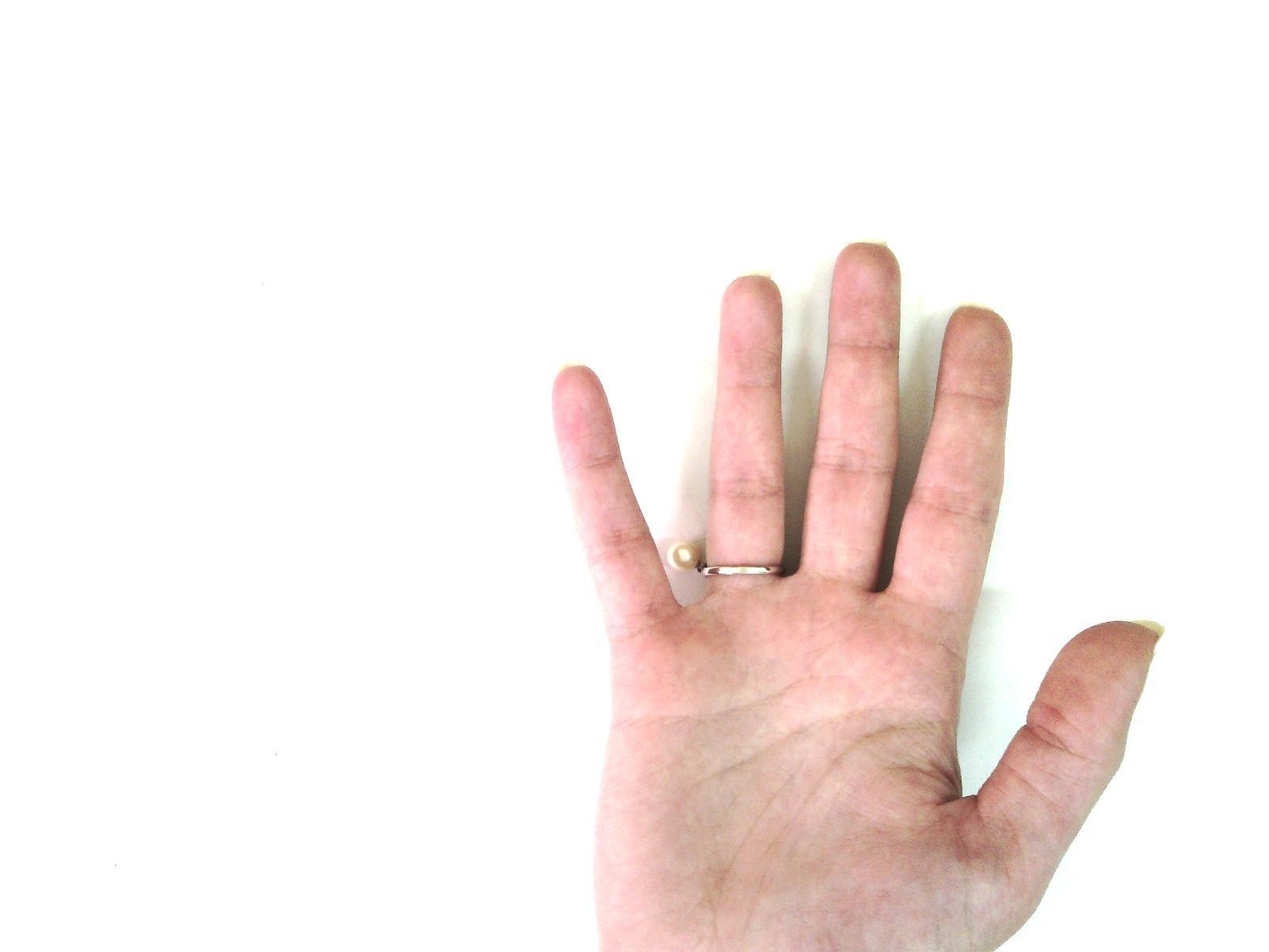open_palm: (548, 240, 1164, 951)
